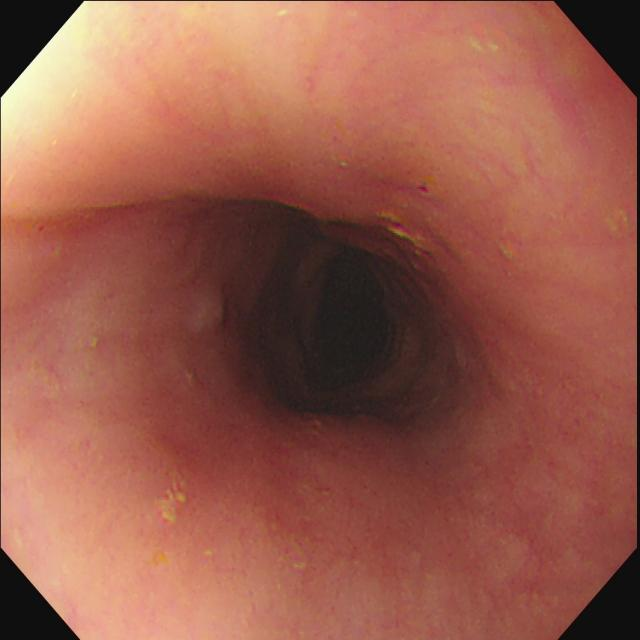E: (286, 234, 399, 385)
J: (155, 473, 188, 525)
